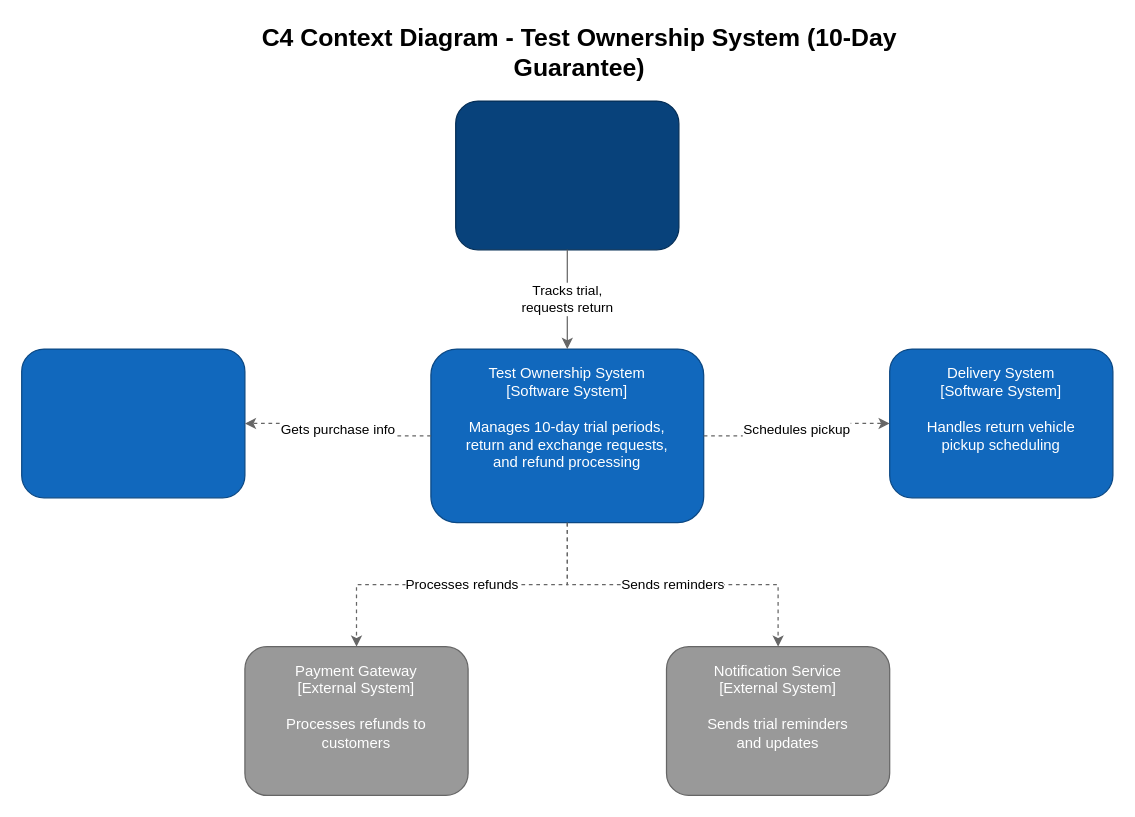
The diagram is 1135 pixels wide and 817 high, and some of its shapes have lost their labels. Each missing label, with the centre of its shape:
"Purchase System [Software System] Provides original purchase information" goes at [132,423].
"Vehicle Owner [Person] Customer in trial period deciding to keep or return" goes at [566,175].
